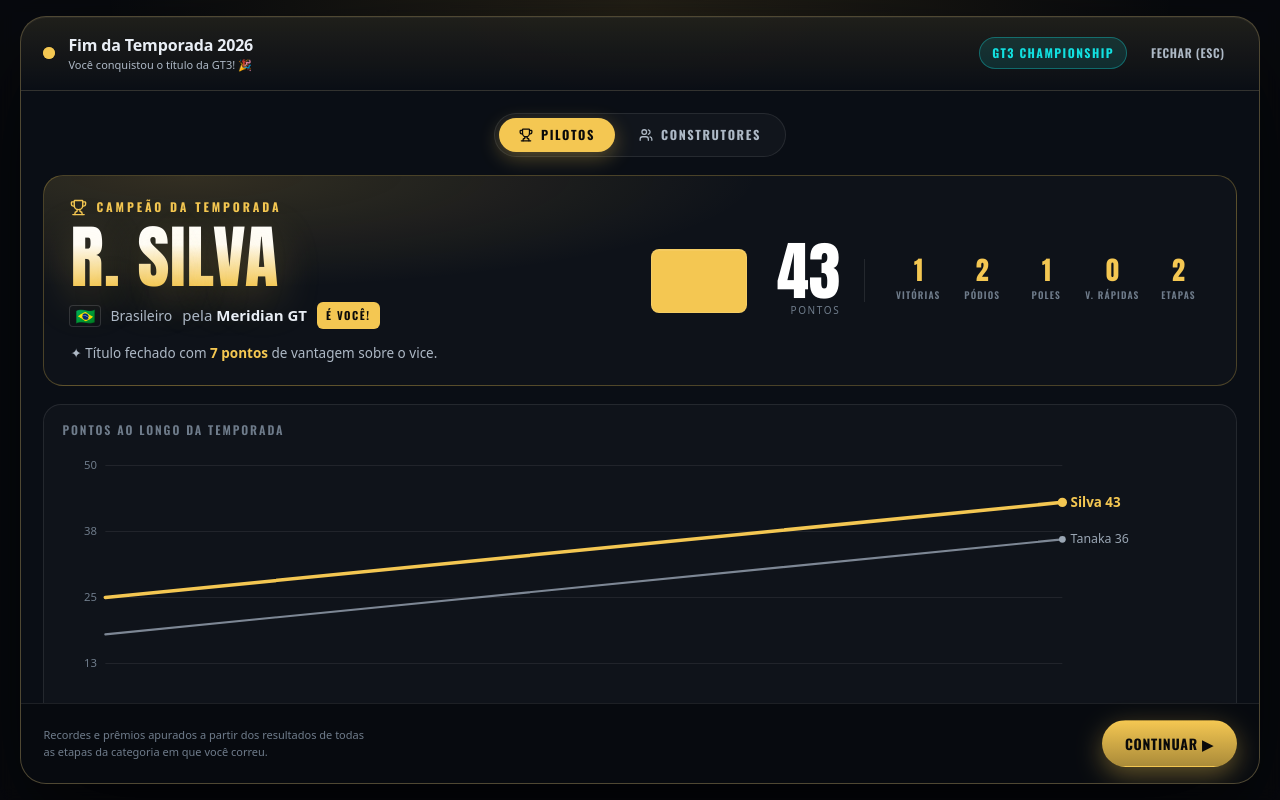
SeasonChampionOverlay › abre no quadro de pilotos e guarda os construtores atrás do alternador
expect the text with class "co-cname" reads "R. Silva": met, box [70,205,279,309]
Click the tab "Construtores" at {"x": 700, "y": 135}, box [619,118,781,152]
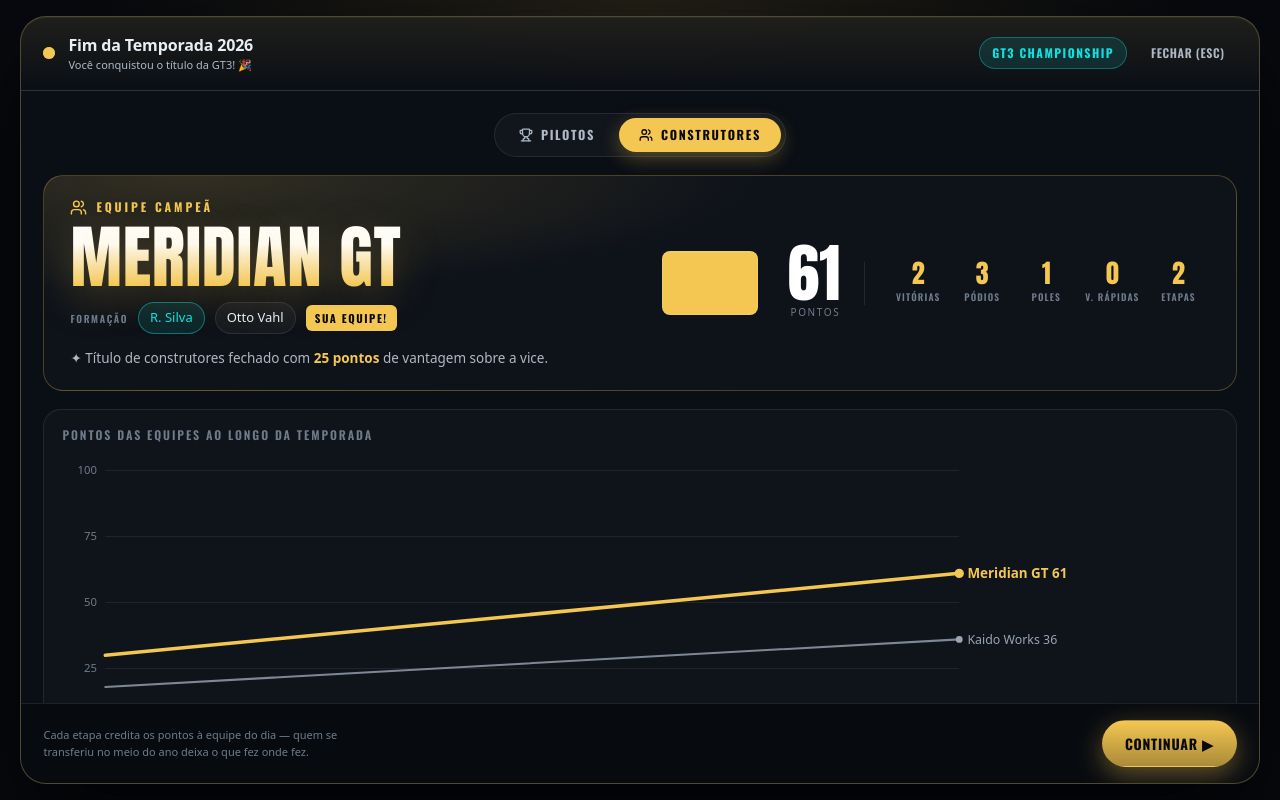
expect the text with class "co-cname" reads "Meridian GT": met, box [70,205,402,309]
